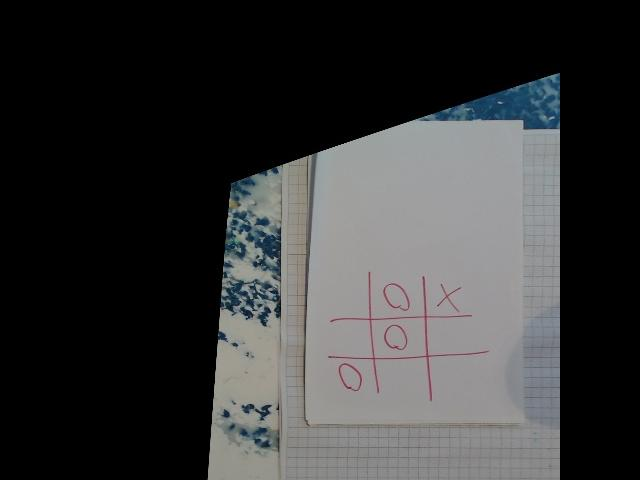O: (381, 278, 414, 312), (382, 321, 412, 351), (337, 359, 362, 392)
X: (436, 281, 464, 309)
grid: (325, 265, 479, 401)
